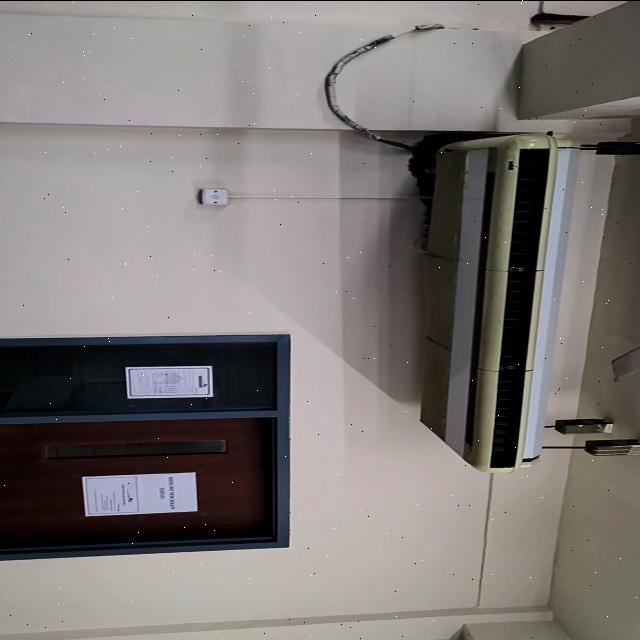Ac: (421, 132, 578, 472)
